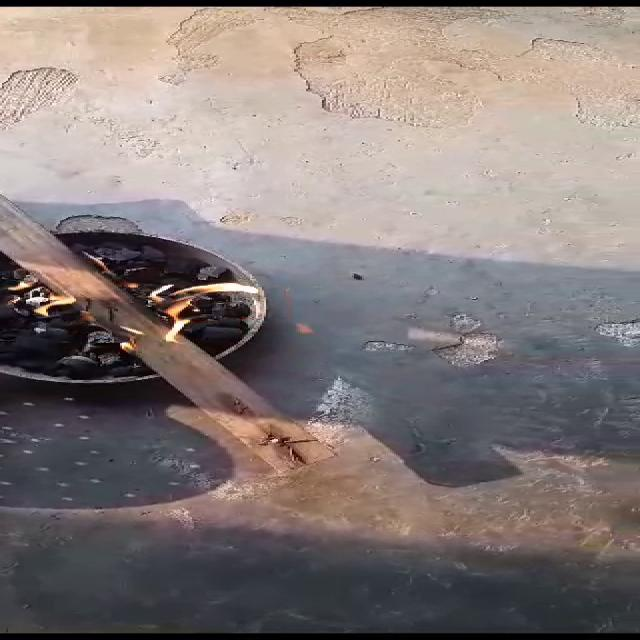Fire: (20, 250, 264, 365)
